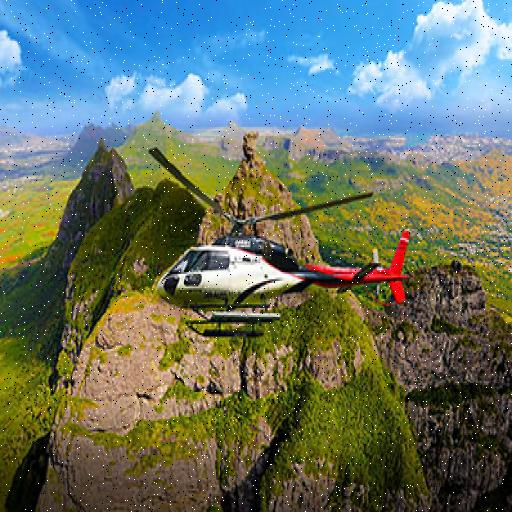helicopter: (153, 166, 414, 352)
